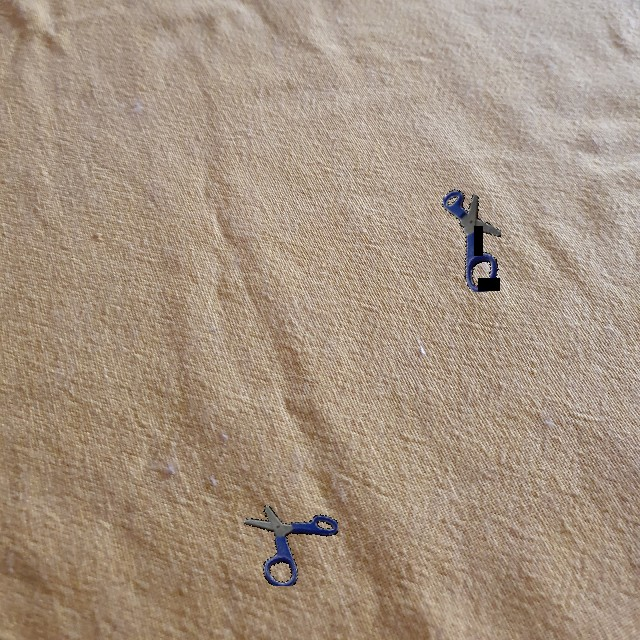scissors: (244, 505, 338, 586), (442, 189, 501, 292)
